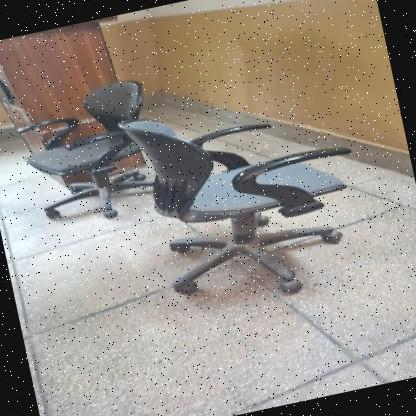chair: (106, 62, 387, 332), (9, 61, 171, 228)
